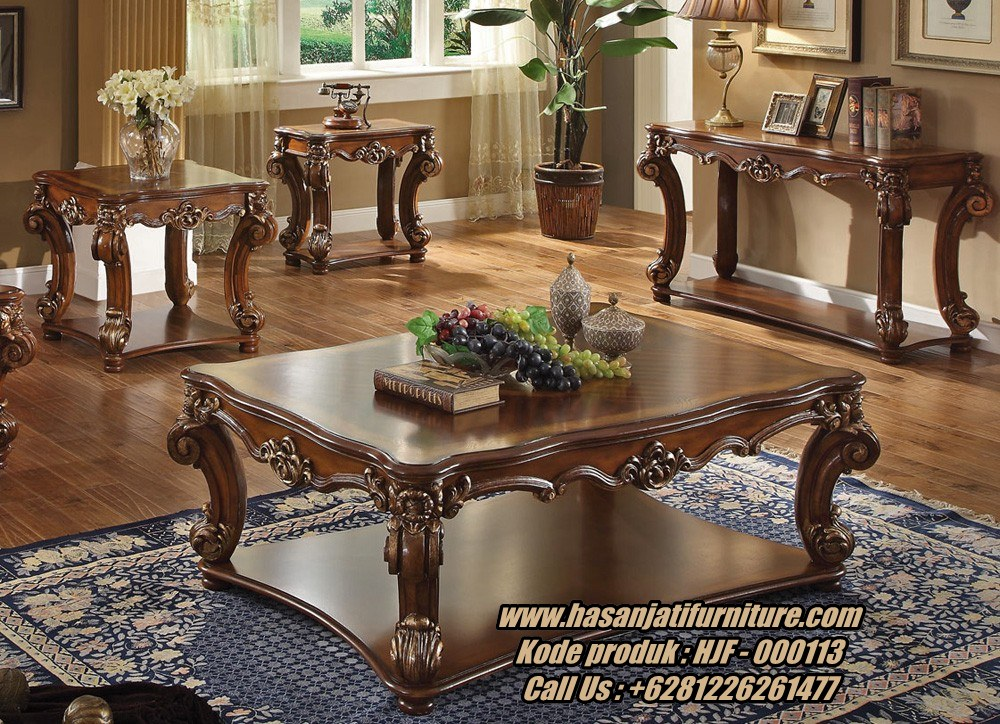Carving Table: (183, 310, 887, 699), (627, 92, 995, 361), (22, 152, 274, 367), (270, 111, 463, 257)
